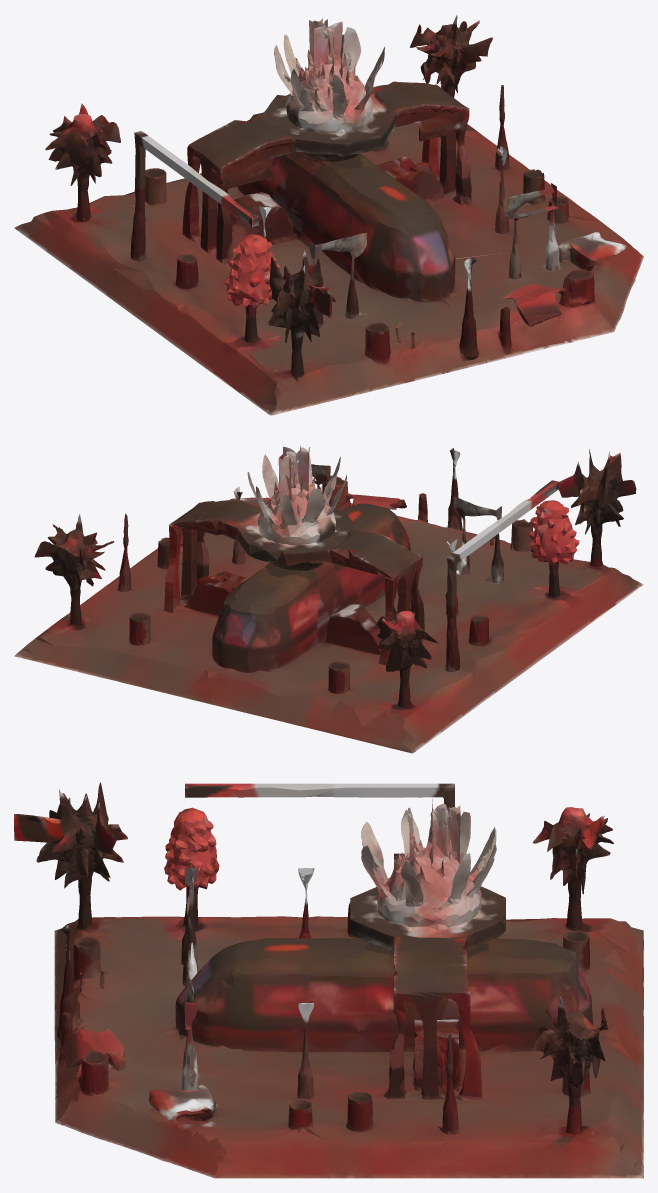
Rendered from rodin_train.glb.
3 views of the same model, one above another, from view 1: azimuth 30°, elevation 25°; view 2: azimuth 150°, elevation 25°; view 3: azimuth 270°, elevation 25° (orthographic). The views are drawn at different scales.
Parts seen in each view (by area): view 1: model; view 2: model; view 3: model.
Boxes of the visible parts, <box> form: model: <box>14,14,643,415</box>; model: <box>14,445,643,753</box>; model: <box>14,782,643,1178</box>.
Size of the model in its own units: 1.76 by 0.8458 by 1.88.
1 material, 1 textured.
